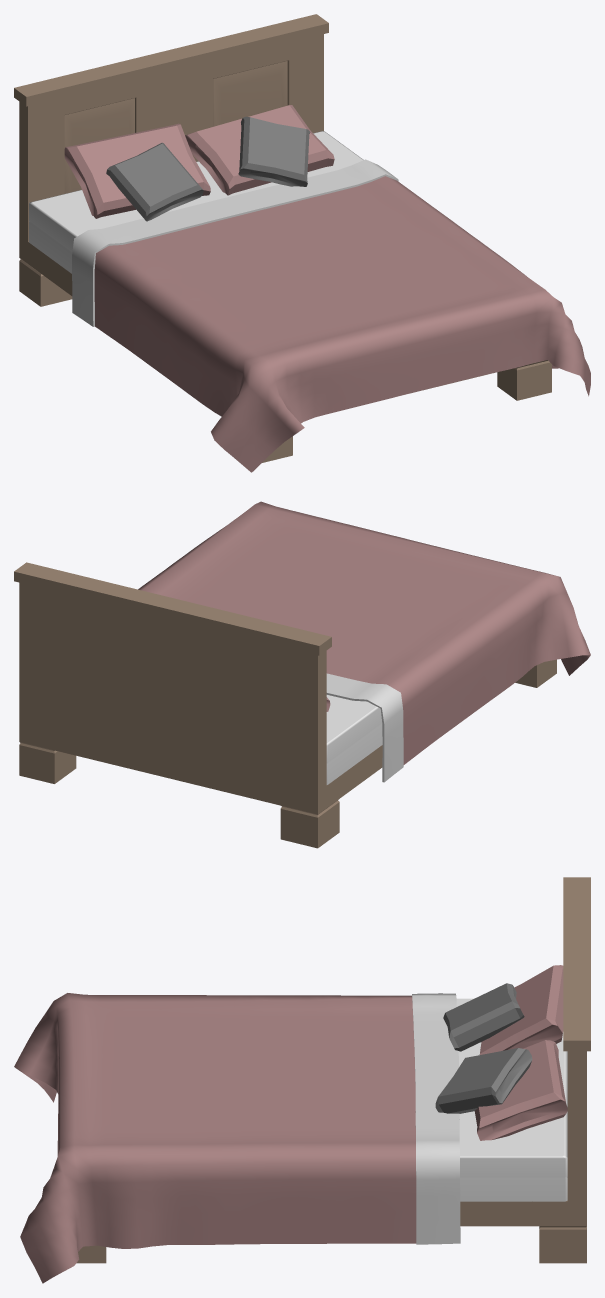
The model's file is Bed_Queen.fbx.
The picture shows the model from 3 angles, top to bottom: view 1: azimuth 30°, elevation 25°; view 2: azimuth 150°, elevation 25°; view 3: azimuth 270°, elevation 25°; orthographic projection. The views are drawn at different scales.
Visible parts, largest first — view 1: Blanket, BedBase, Mattress, Pillow1, Pillow, Cushion1, Cushion; view 2: BedBase, Blanket, Mattress; view 3: Blanket, BedBase, Mattress, Pillow, Cushion, Pillow1, Cushion1.
Boxes of the visible parts, x1,y1,x2,y2 form: Blanket: [72, 159, 590, 472]; BedBase: [14, 14, 551, 462]; Mattress: [29, 131, 363, 273]; Pillow1: [64, 123, 210, 218]; Pillow: [185, 105, 334, 195]; Cushion1: [106, 142, 203, 221]; Cushion: [238, 116, 310, 186]; BedBase: [14, 562, 556, 848]; Blanket: [138, 501, 590, 782]; Mattress: [326, 695, 382, 784]; Blanket: [14, 993, 460, 1283]; BedBase: [76, 877, 590, 1263]; Mattress: [456, 998, 567, 1201]; Pillow: [474, 1040, 567, 1140]; Cushion: [435, 1048, 532, 1113]; Pillow1: [479, 965, 563, 1054]; Cushion1: [443, 983, 524, 1051].
Size of the model in its own units: 191 by 102 by 232.
